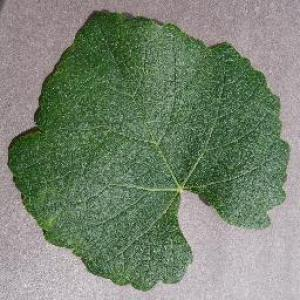Folha: (6, 8, 290, 291)
